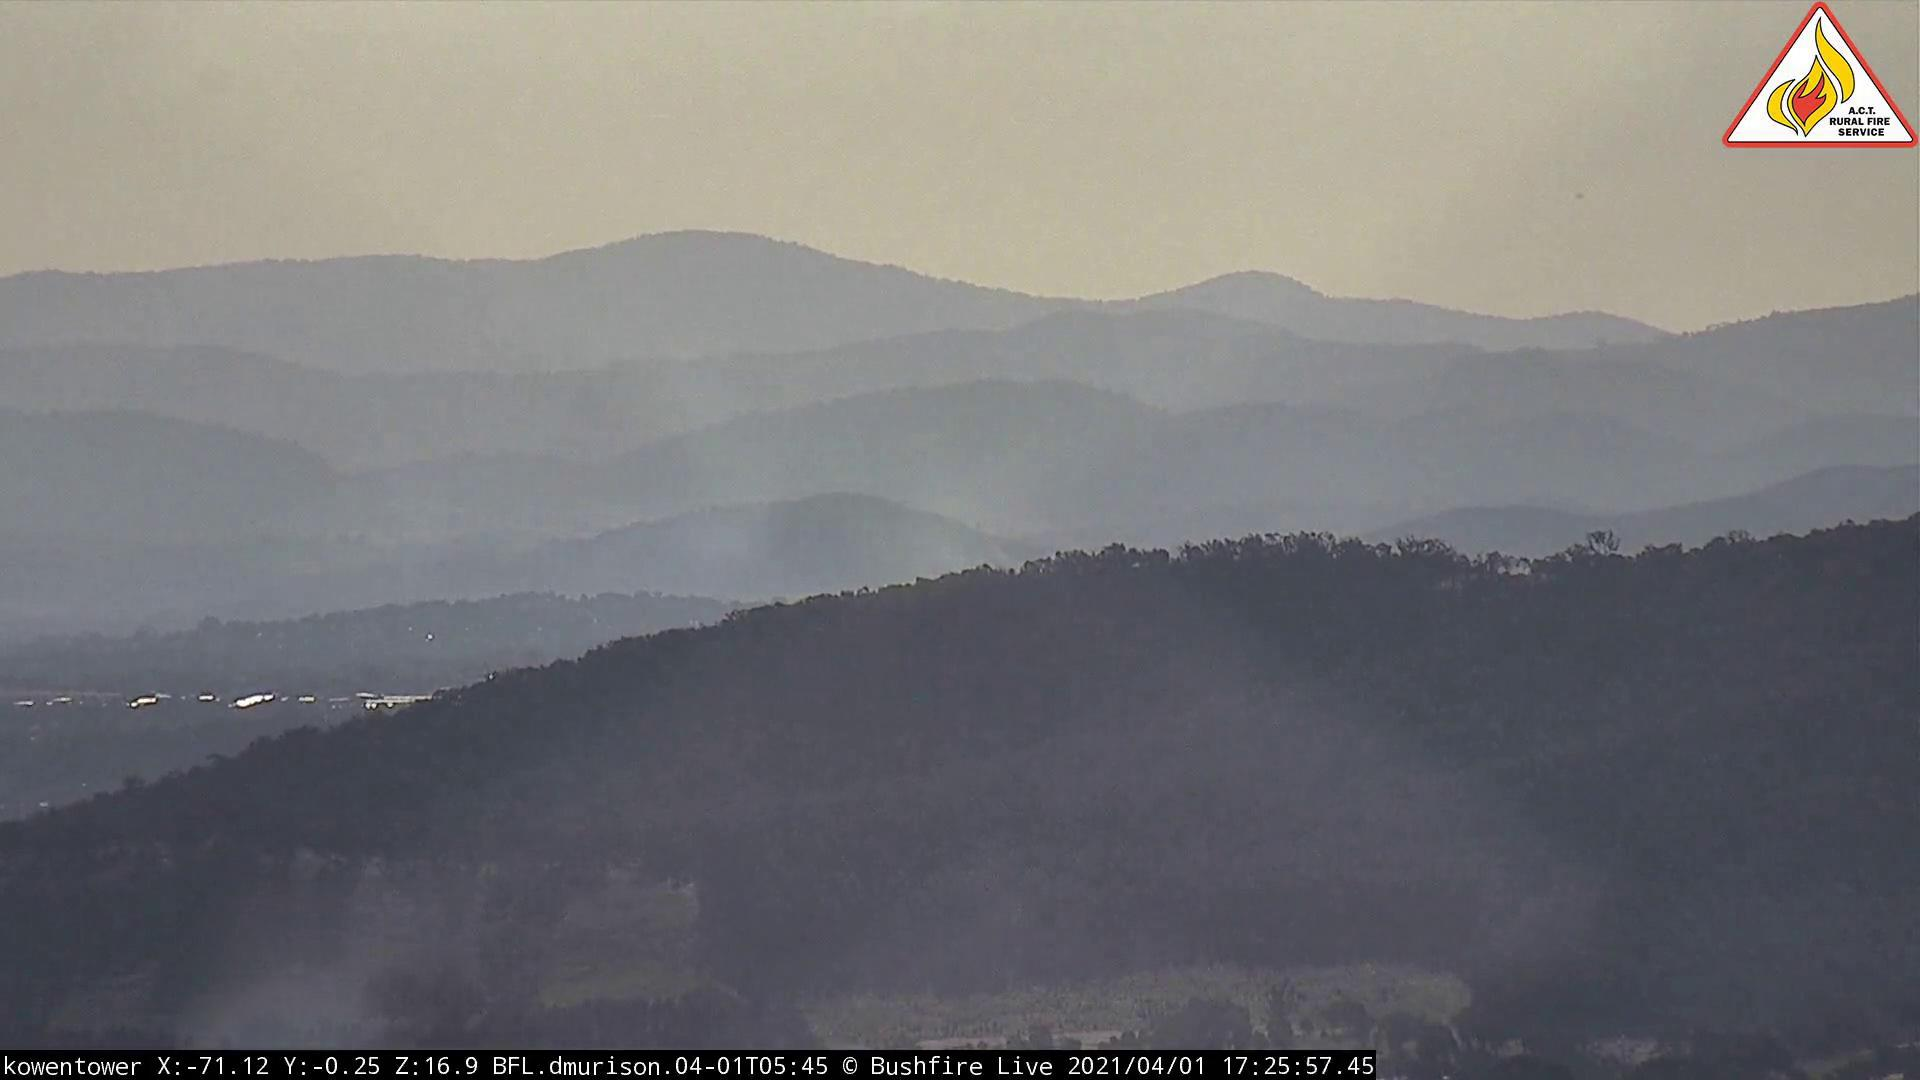Smoke: (555, 363, 1076, 634)
